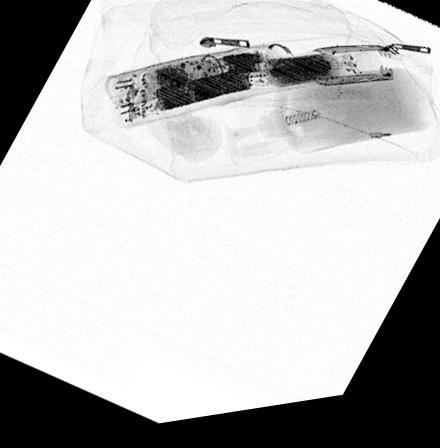Baton: (105, 54, 393, 132), (103, 52, 290, 111)
